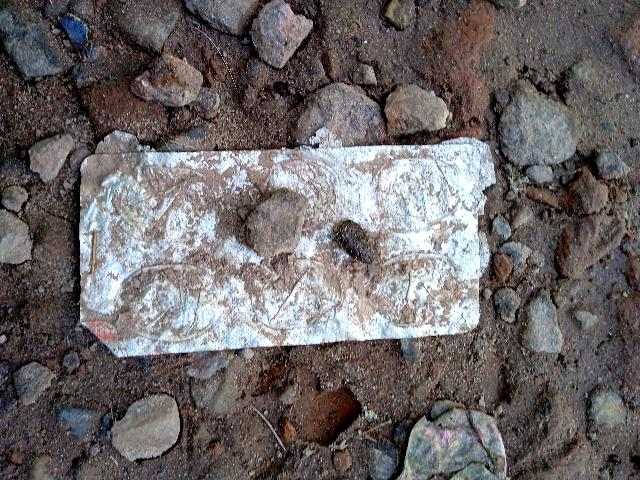medicine: (85, 151, 492, 341)
